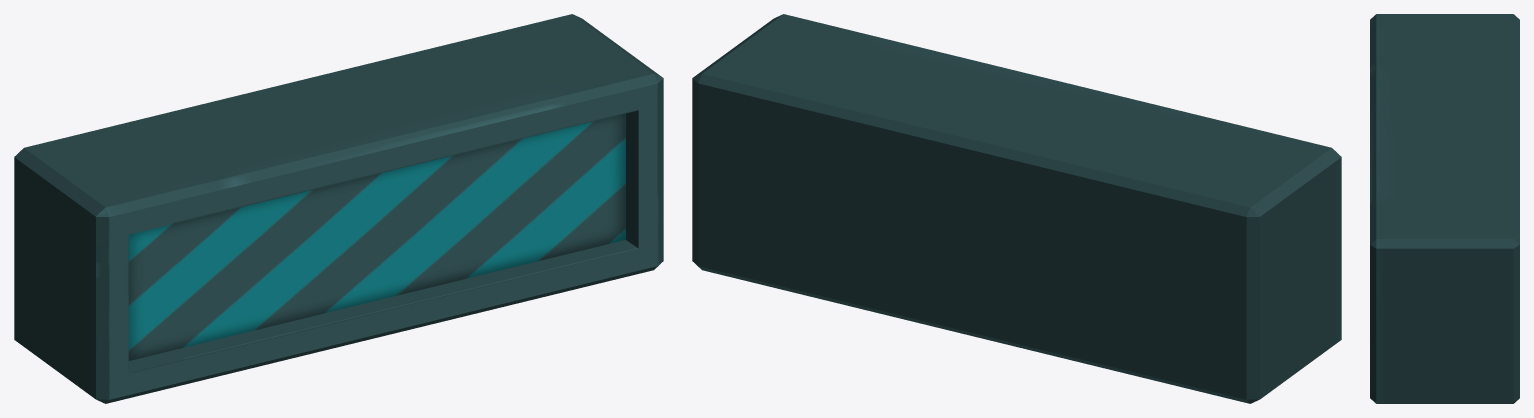
File: 61_ELM_BlueTriggerRectangleGlass.fbx
3 views of the same model, side by side, from view 1: azimuth 30°, elevation 25°; view 2: azimuth 150°, elevation 25°; view 3: azimuth 270°, elevation 25° (orthographic). The views are drawn at different scales.
Parts seen in each view (by area): view 1: Blue_trigger_RectangleGlass; view 2: Blue_trigger_RectangleGlass; view 3: Blue_trigger_RectangleGlass.
Part boxes in pixels (<box>): Blue_trigger_RectangleGlass: <box>14,14,663,403</box>; Blue_trigger_RectangleGlass: <box>692,14,1341,403</box>; Blue_trigger_RectangleGlass: <box>1370,14,1519,403</box>.
Size of the model in its own units: 5.21 by 1.72 by 1.42.
1 material, 1 textured.
